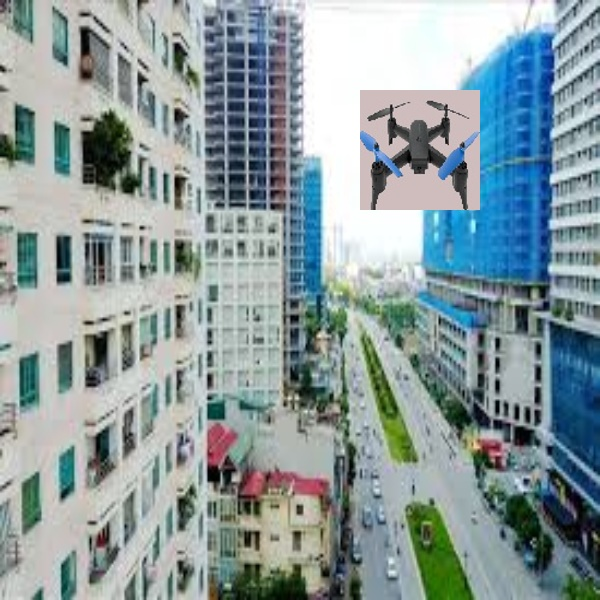drone: (362, 88, 479, 213)
